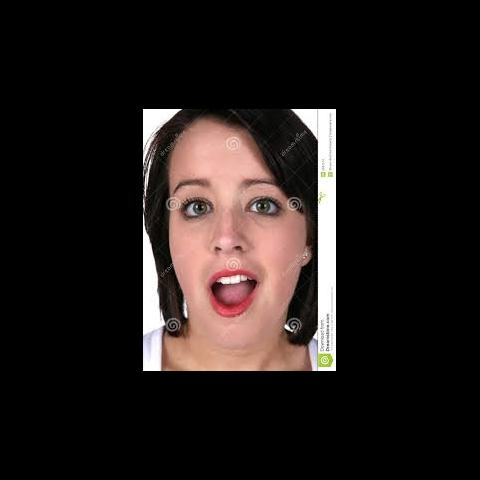opened: (168, 182, 297, 230)
